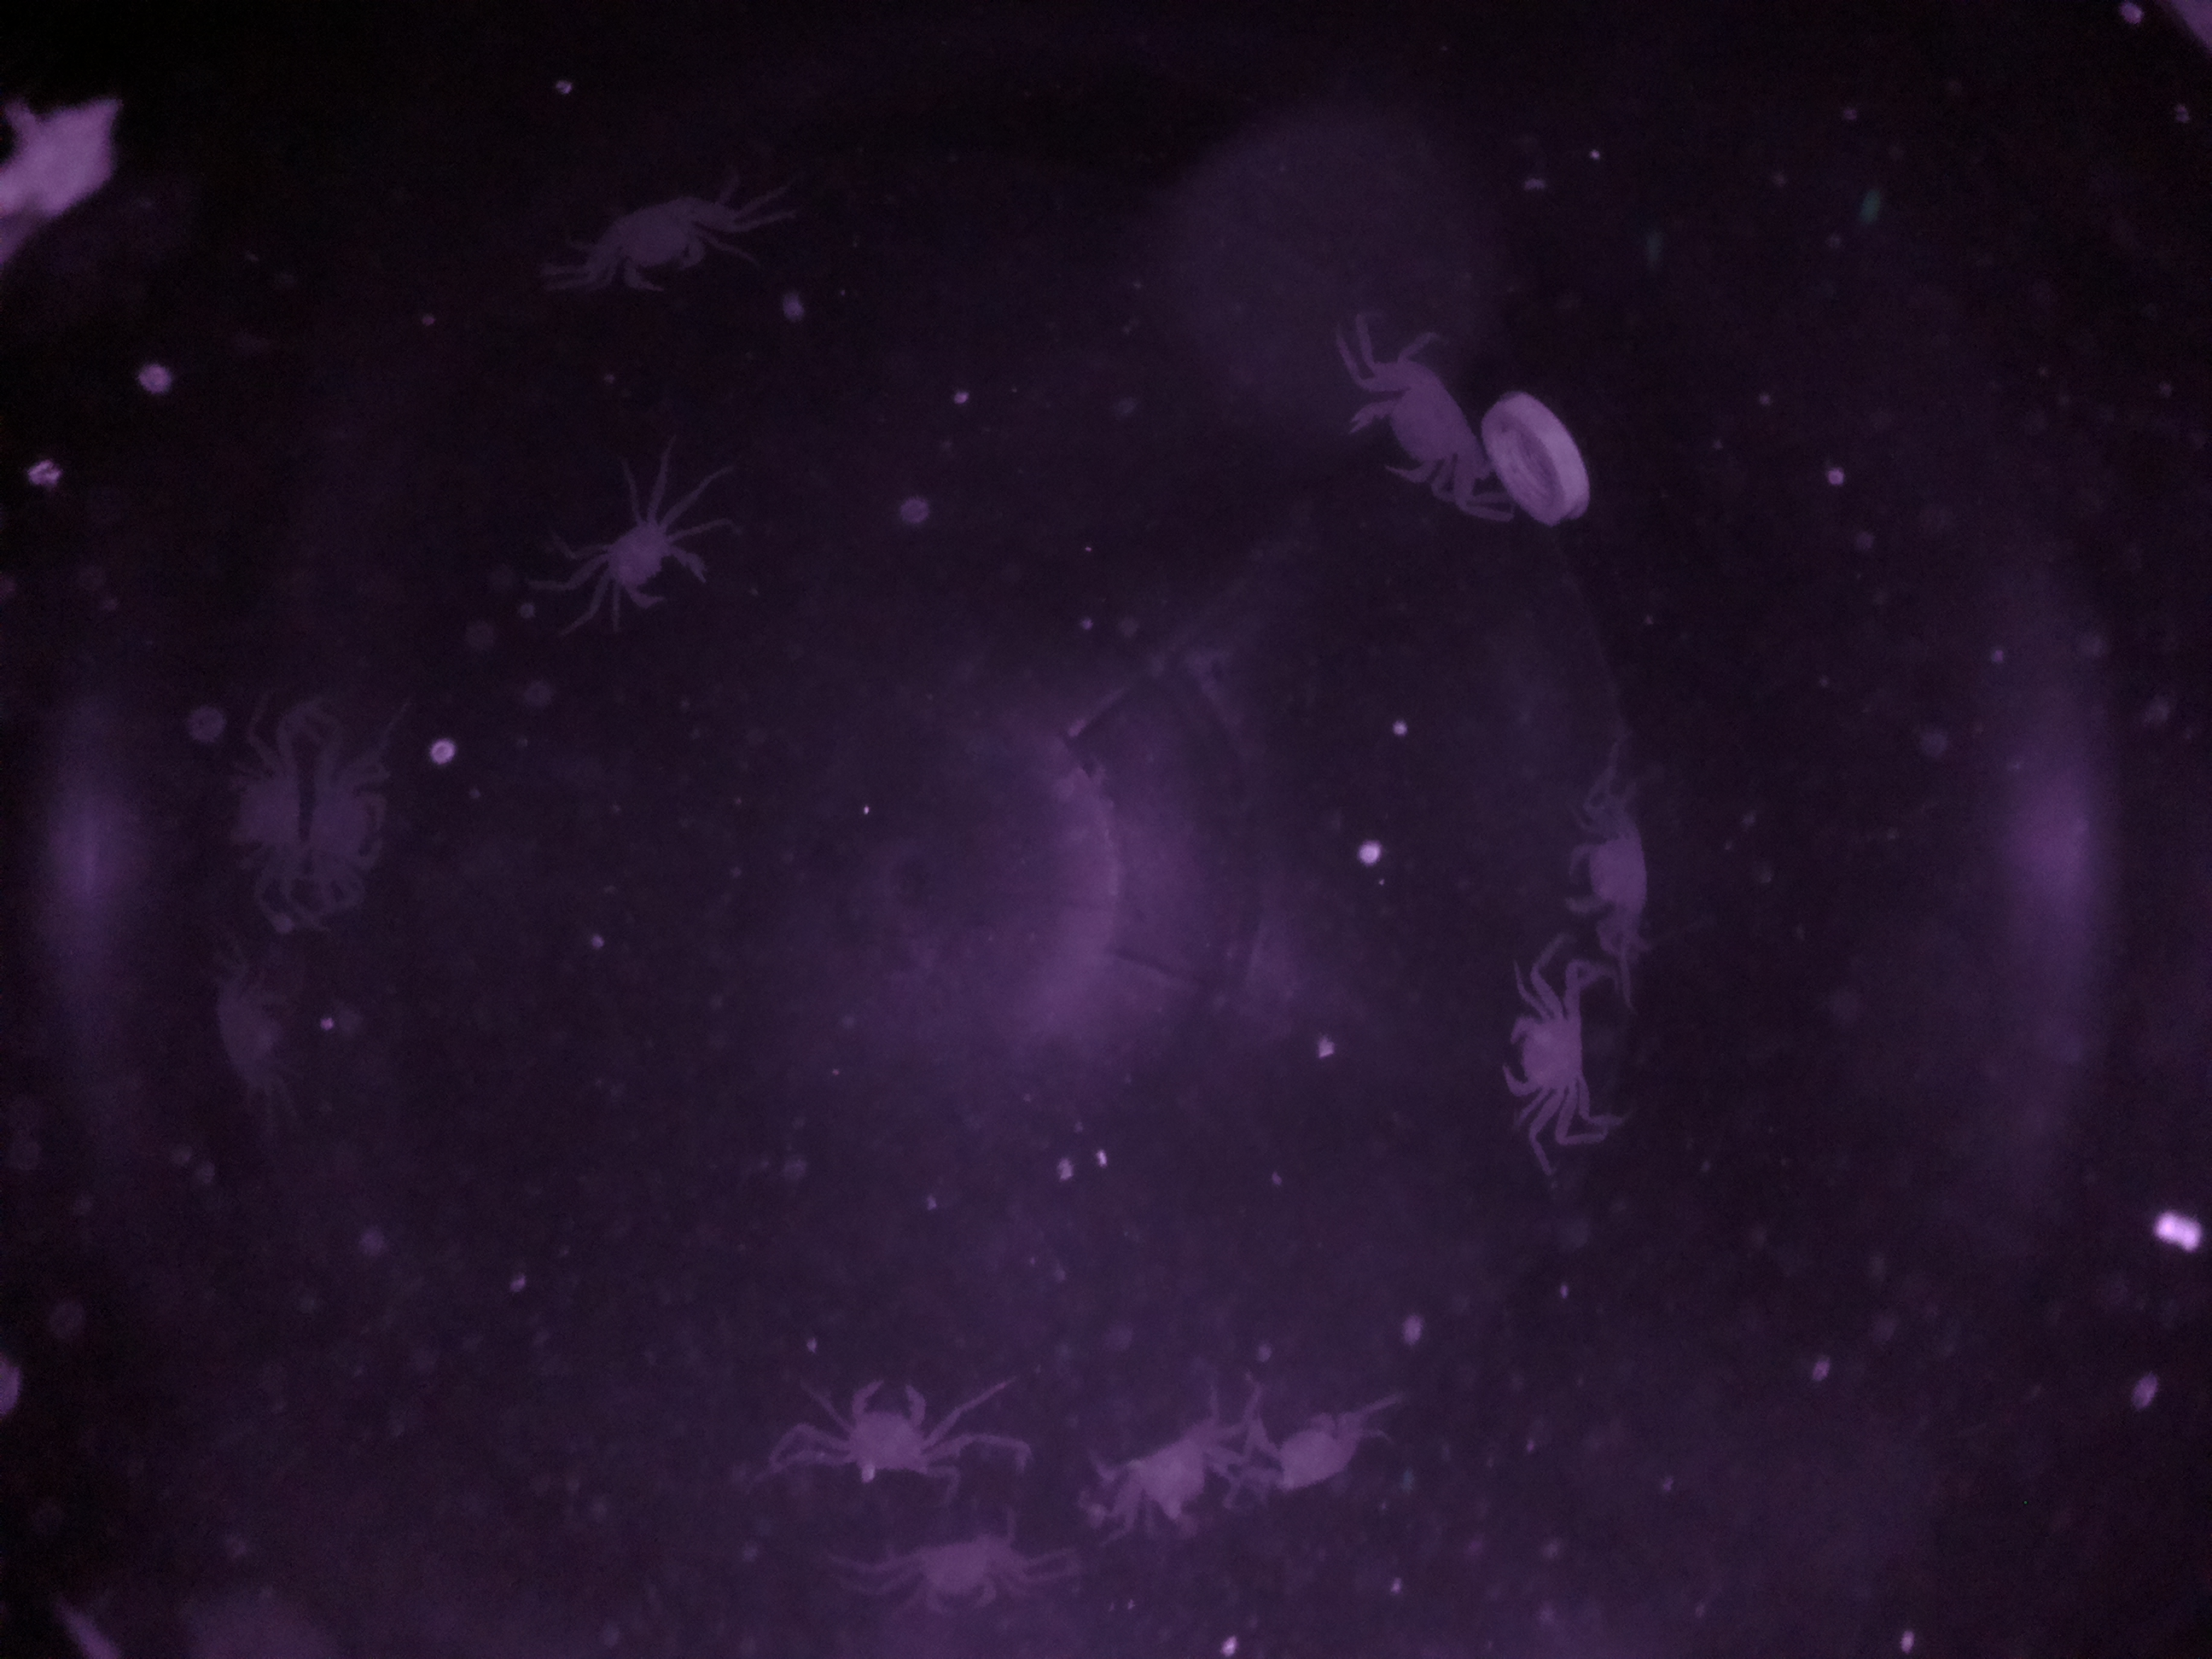Crab: (1325, 326, 1512, 530), (1543, 775, 1702, 976), (563, 483, 718, 643), (1472, 964, 1613, 1133), (808, 1349, 960, 1488)
